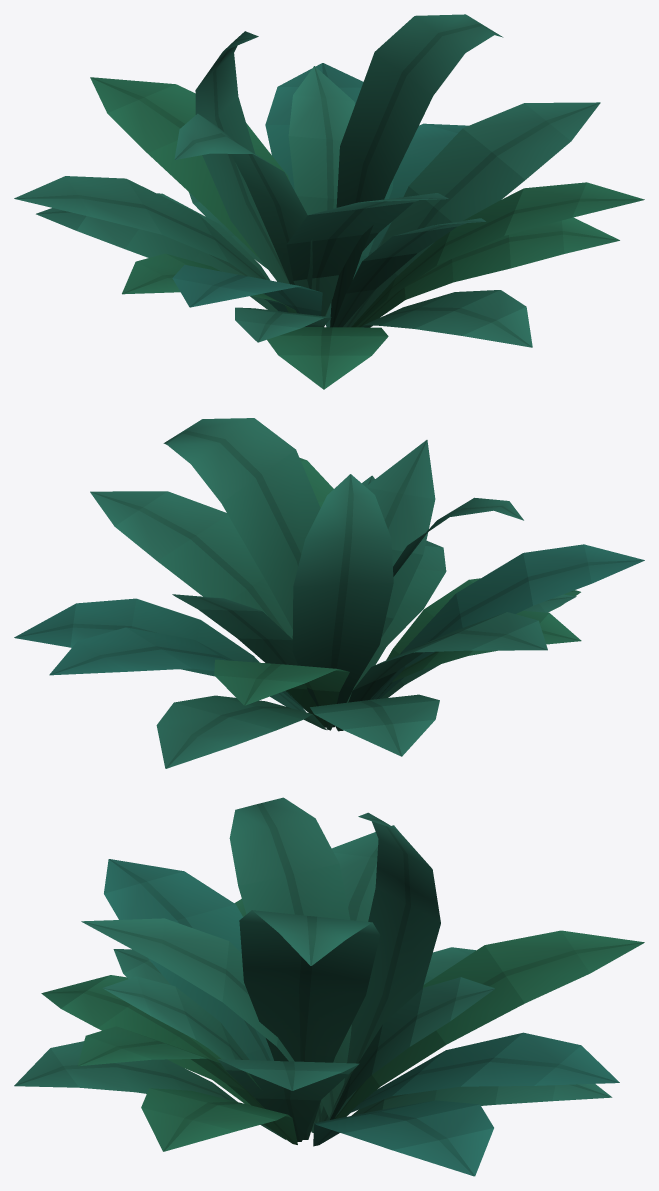
Rendered from Hosta3.fbx.
3 views of the same model, one above another, from view 1: azimuth 30°, elevation 25°; view 2: azimuth 150°, elevation 25°; view 3: azimuth 270°, elevation 25° (orthographic). The views are drawn at different scales.
Visible parts, largest first — view 1: Plane.163; view 2: Plane.163; view 3: Plane.163.
Part boxes in pixels (x1,y1,x2,y2): Plane.163: (14, 14, 644, 389); Plane.163: (14, 418, 644, 768); Plane.163: (14, 797, 644, 1176).
Size of the model in its own units: 203 by 203 by 108.
